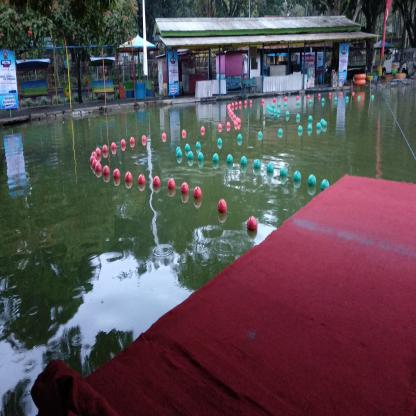green_buoy: (306, 173, 316, 195), (294, 170, 302, 190), (175, 147, 182, 165), (322, 178, 330, 193), (226, 152, 233, 169), (278, 167, 287, 180), (212, 154, 219, 168), (256, 131, 264, 142), (240, 158, 247, 170), (254, 159, 260, 173), (267, 162, 273, 175), (183, 145, 190, 155), (196, 140, 202, 151), (198, 152, 203, 165), (236, 133, 242, 143), (217, 138, 222, 150), (189, 154, 194, 166), (307, 125, 312, 134), (278, 127, 283, 136), (298, 127, 302, 135)
red_buoy: (246, 215, 258, 236), (217, 199, 229, 218), (193, 185, 203, 203), (113, 167, 122, 186), (167, 178, 177, 195), (181, 182, 190, 199), (139, 135, 149, 148), (138, 174, 146, 189), (153, 176, 161, 191), (126, 172, 133, 187), (104, 166, 111, 180), (110, 142, 118, 154), (128, 135, 135, 148), (95, 164, 102, 176), (94, 148, 100, 160), (120, 139, 125, 152), (102, 144, 107, 157), (182, 127, 187, 139), (162, 131, 167, 143), (93, 160, 99, 170), (90, 156, 96, 165), (218, 123, 223, 132), (201, 126, 205, 136)
